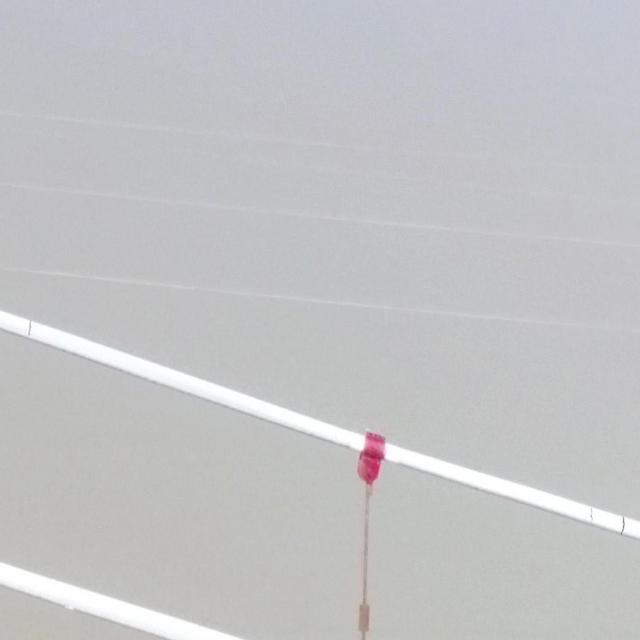crack: (620, 516, 626, 536), (27, 320, 32, 337), (589, 507, 593, 524)
